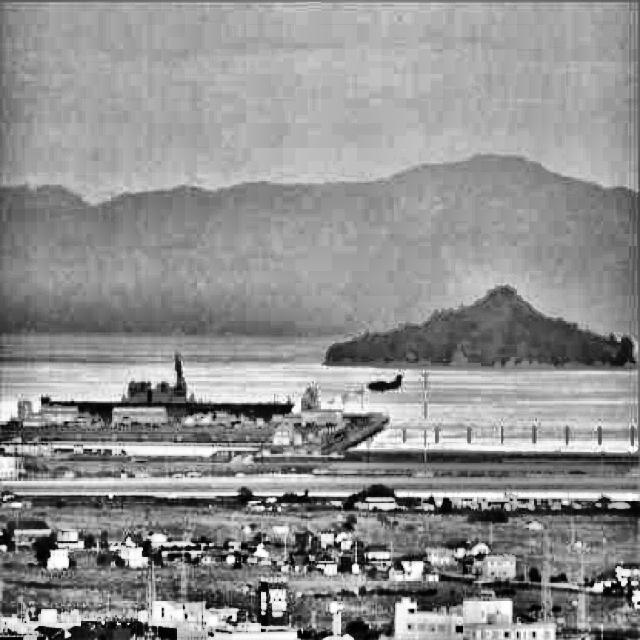US2: (366, 375, 403, 393)
